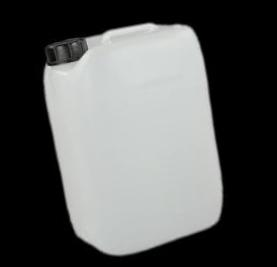Plastik: (43, 23, 222, 255)
